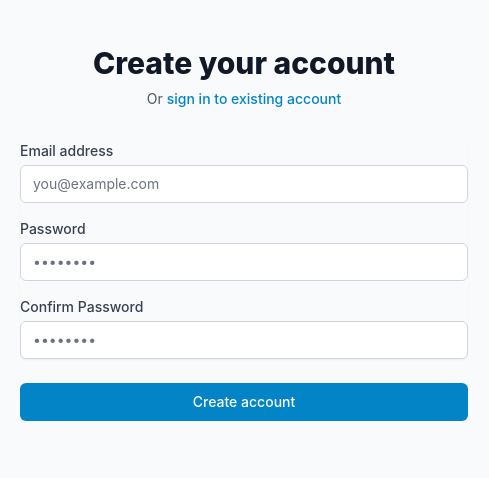
Test: Auth UI - MVP Tests › [EDGE] Edge Cases › should handle empty form submission gracefully
Click the button "Create account": (244, 402) [20,383,468,421]
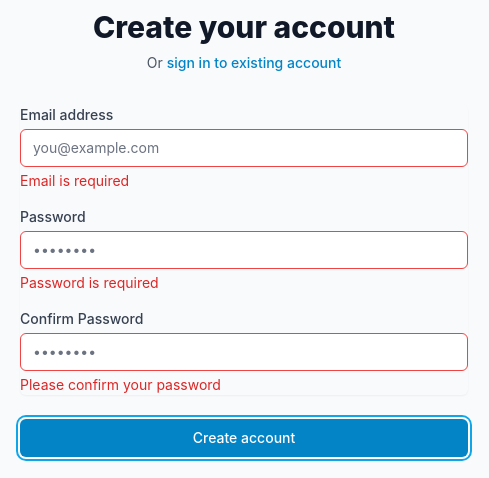
Result: the text "Email is required" is shown at [20,172,129,189]
Result: the text "Password is required" is shown at [20,274,159,291]
Result: the text "Please confirm your password" is shown at [20,376,221,393]
